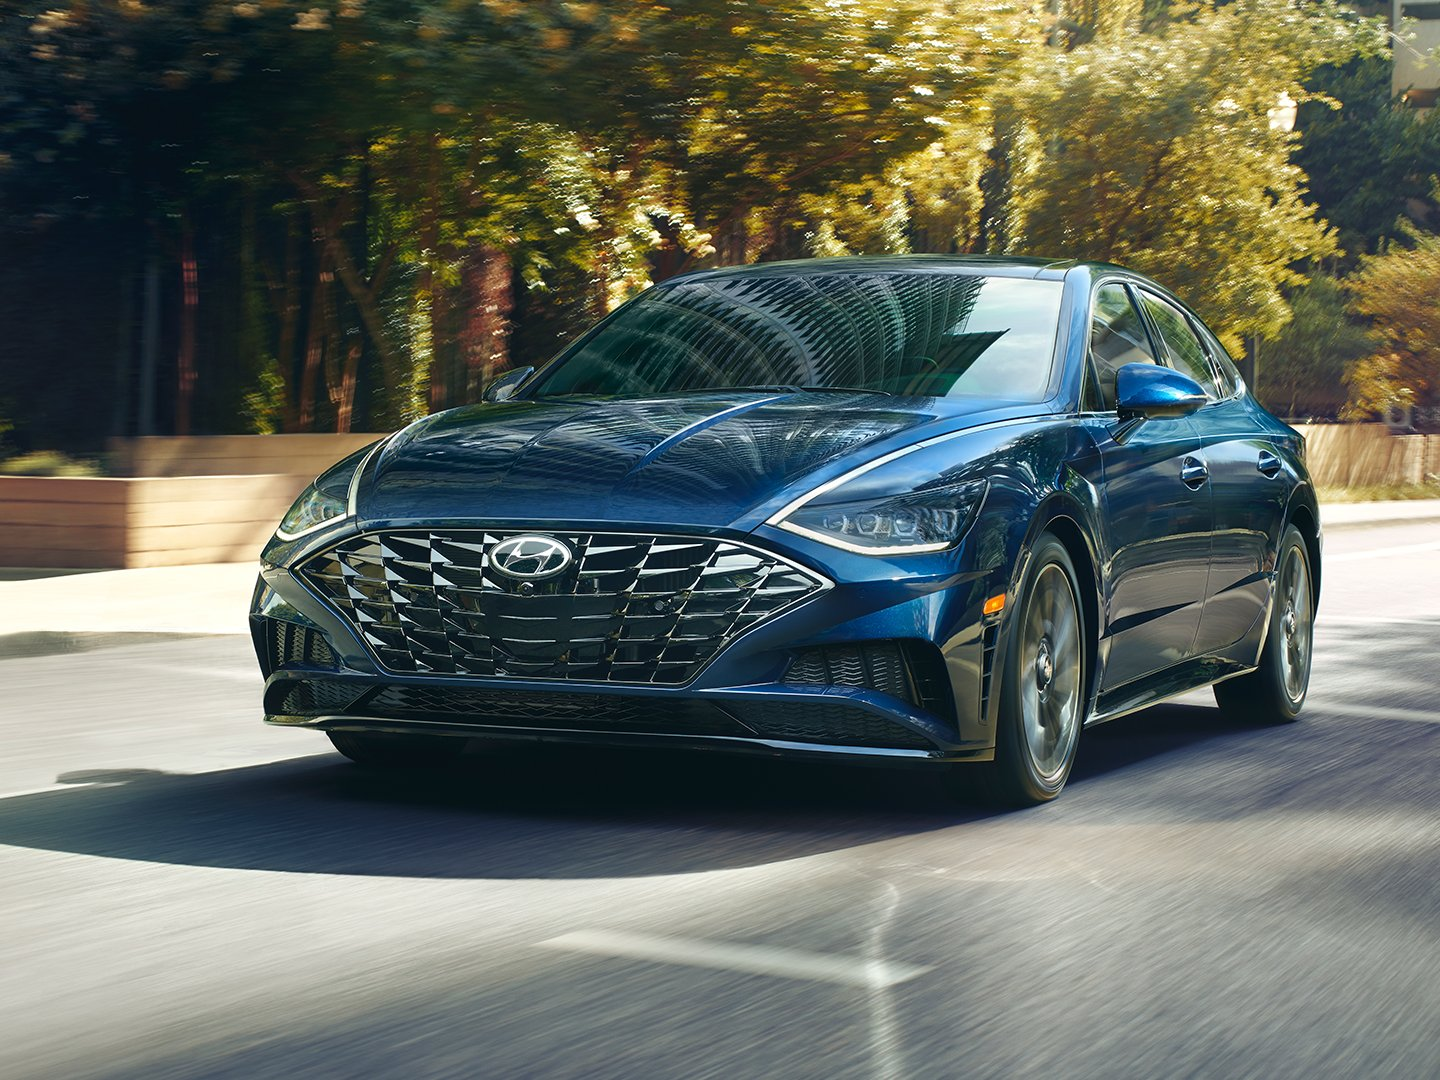car: (245, 256, 1321, 800)
